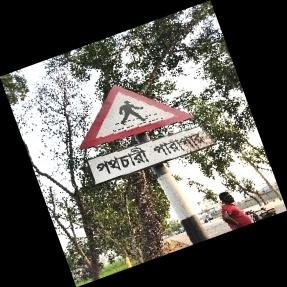Pedestrian-crossing: (79, 84, 214, 187)
